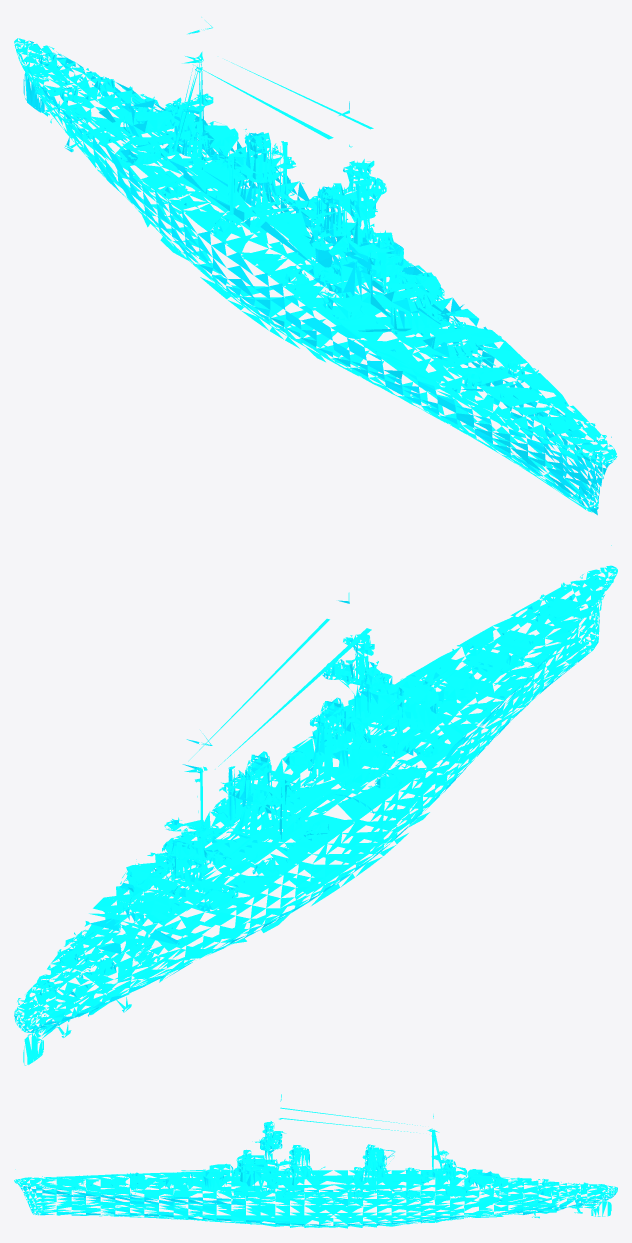
File: Napoli.glb
3 views of the same model, one above another, from view 1: azimuth 30°, elevation 25°; view 2: azimuth 150°, elevation 25°; view 3: azimuth 270°, elevation 25° (orthographic). The views are drawn at different scales.
Bounding box in the file's own units: 2.14 × 3.62 × 16.18.
